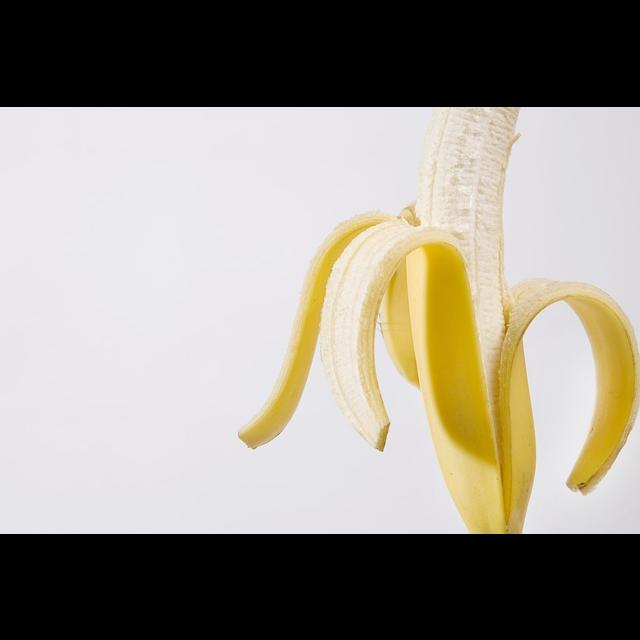apple: (383, 62, 587, 570)
